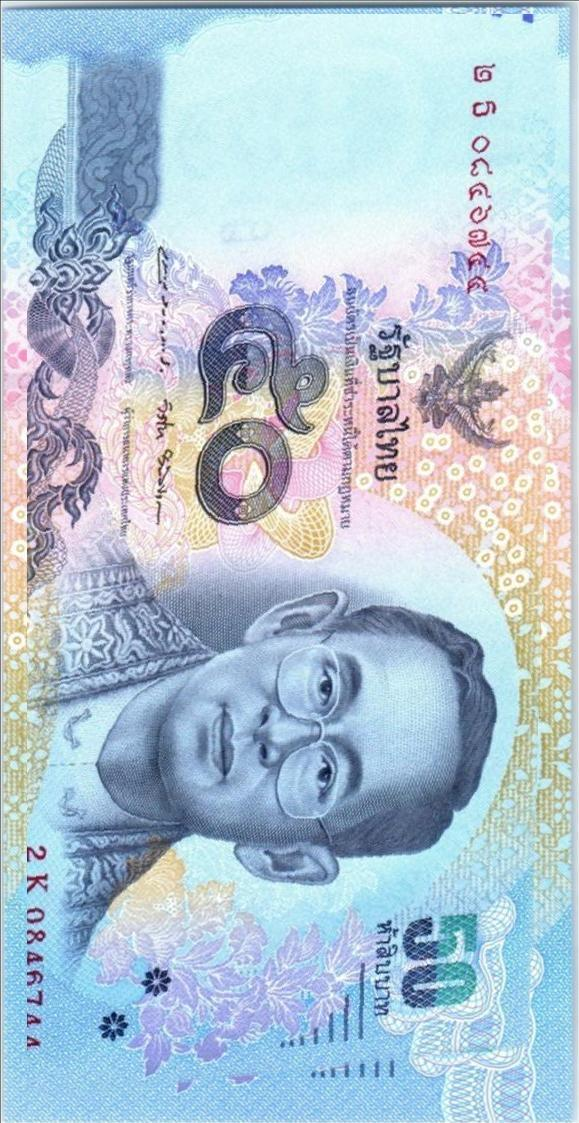50BahtTai: (27, 14, 561, 1102)
